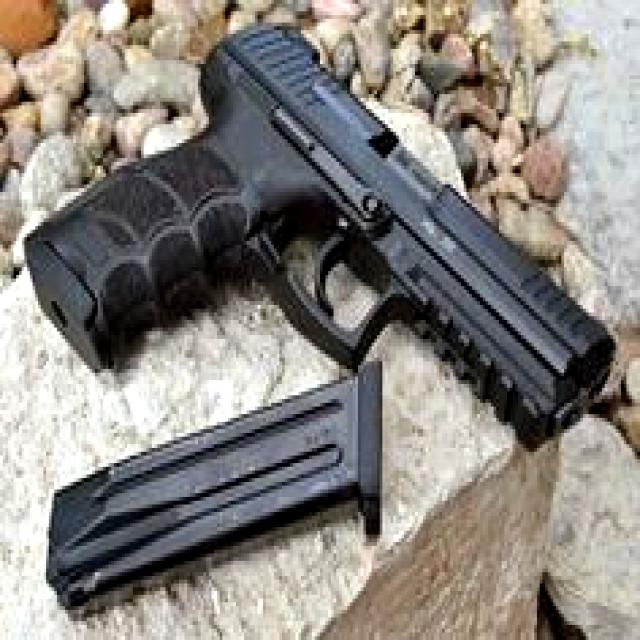semi automatic: (19, 12, 631, 525)
